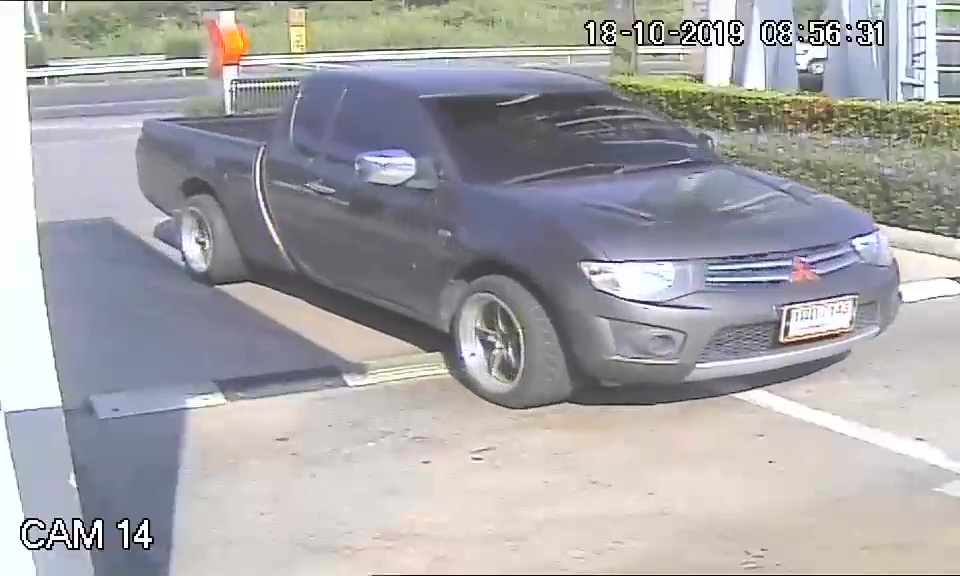pickup: (124, 58, 908, 411)
